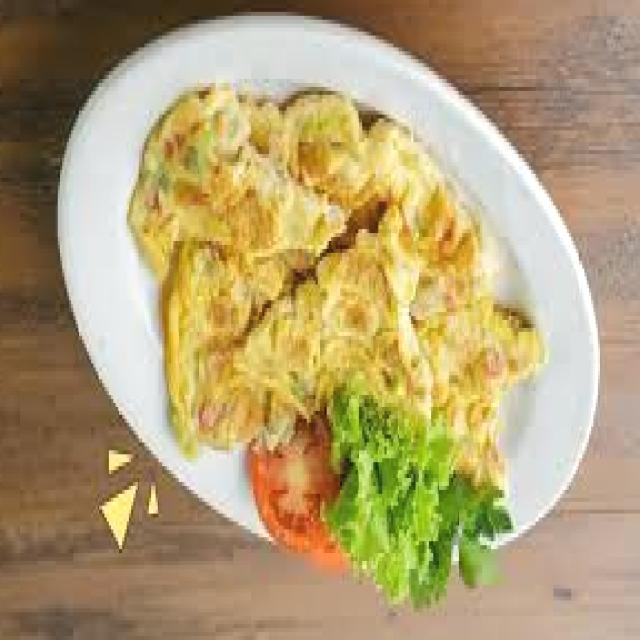telur_dadar: (131, 78, 527, 506)
